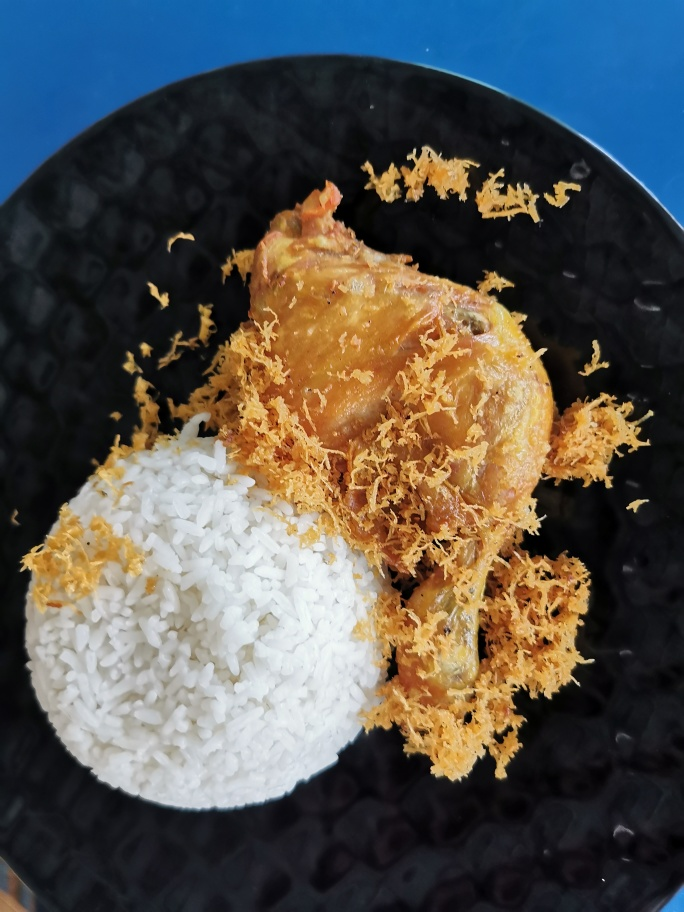ayam goreng: (204, 194, 605, 794)
nasi putih: (36, 437, 385, 815)
